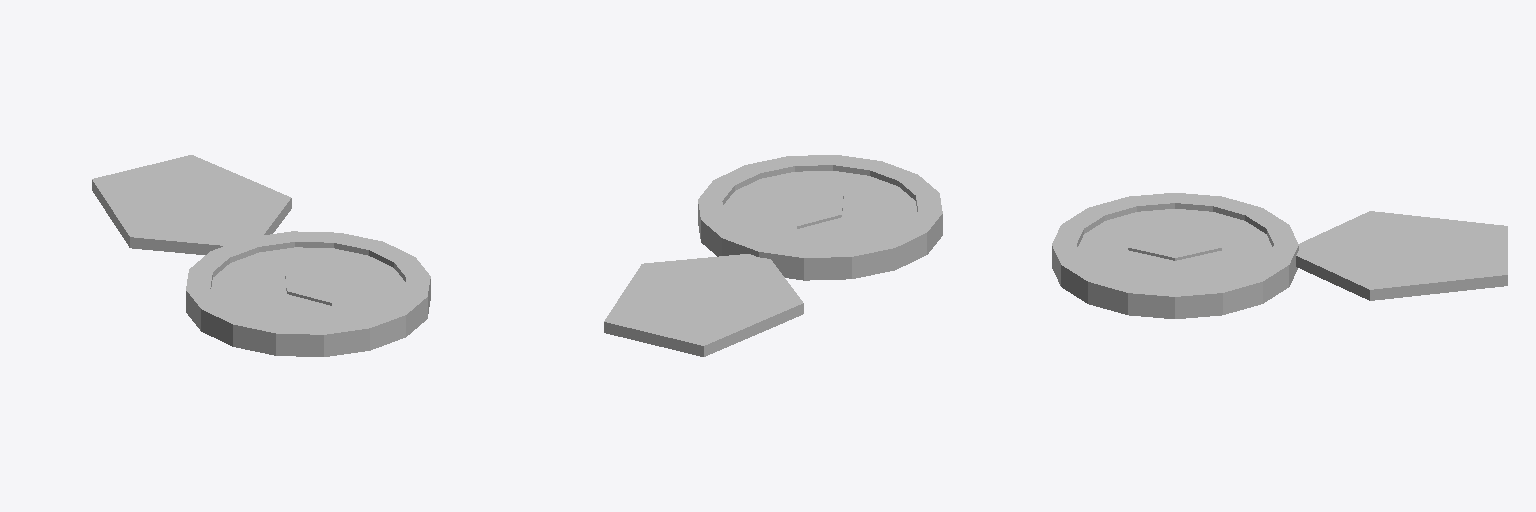
File: medal-1.obj
3 renders of one model, left to right at view 1: azimuth 30°, elevation 25°; view 2: azimuth 150°, elevation 25°; view 3: azimuth 270°, elevation 25°, orthographic.
Parts seen in each view (by area): view 1: medal_Cylinder; view 2: medal_Cylinder; view 3: medal_Cylinder.
Part boxes in pixels (x1,y1,x2,y2): medal_Cylinder: (92, 155, 430, 356); medal_Cylinder: (604, 155, 942, 356); medal_Cylinder: (1052, 193, 1507, 318).
Size of the model in its own units: 20 by 2 by 36.95.